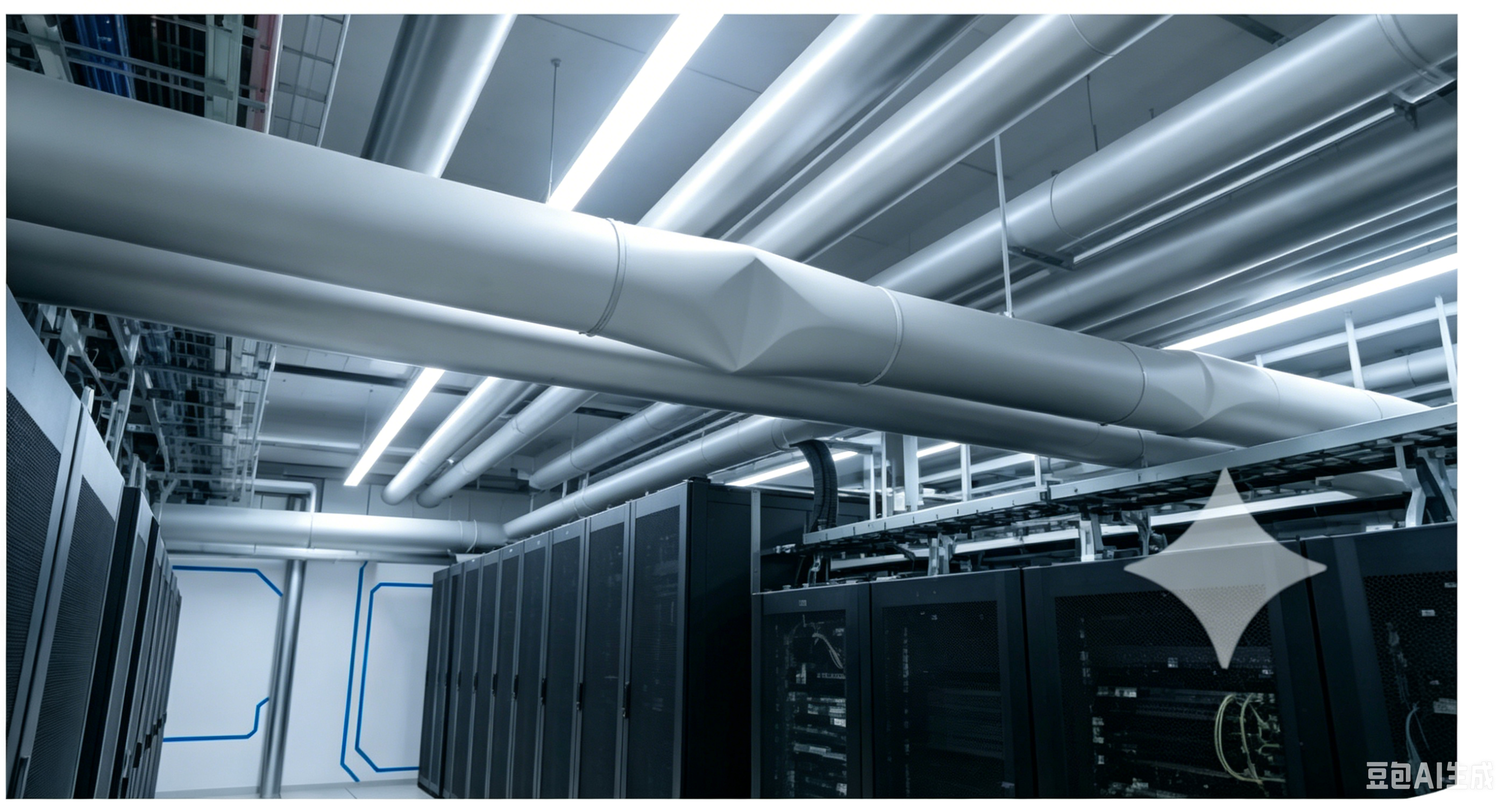Leakage: (676, 252, 849, 375)
